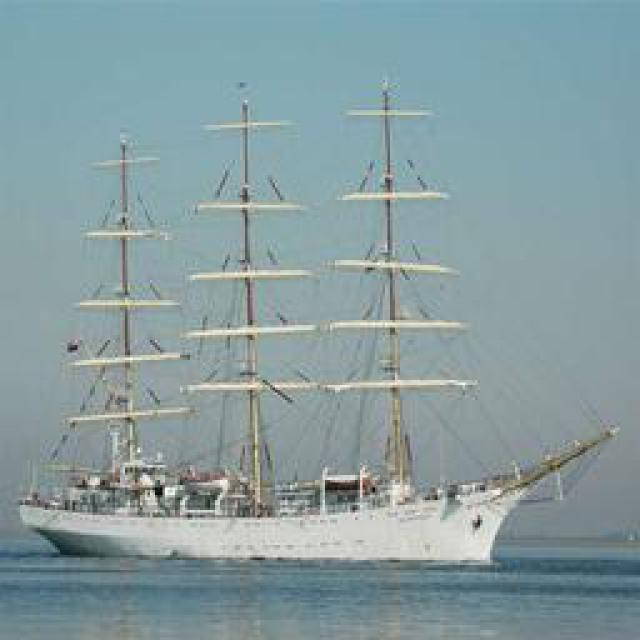Ship: (20, 80, 605, 553)
